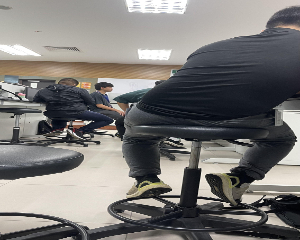sit: (129, 2, 300, 240), (46, 69, 102, 138)
